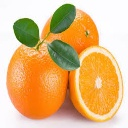orange: (7, 26, 69, 120)
